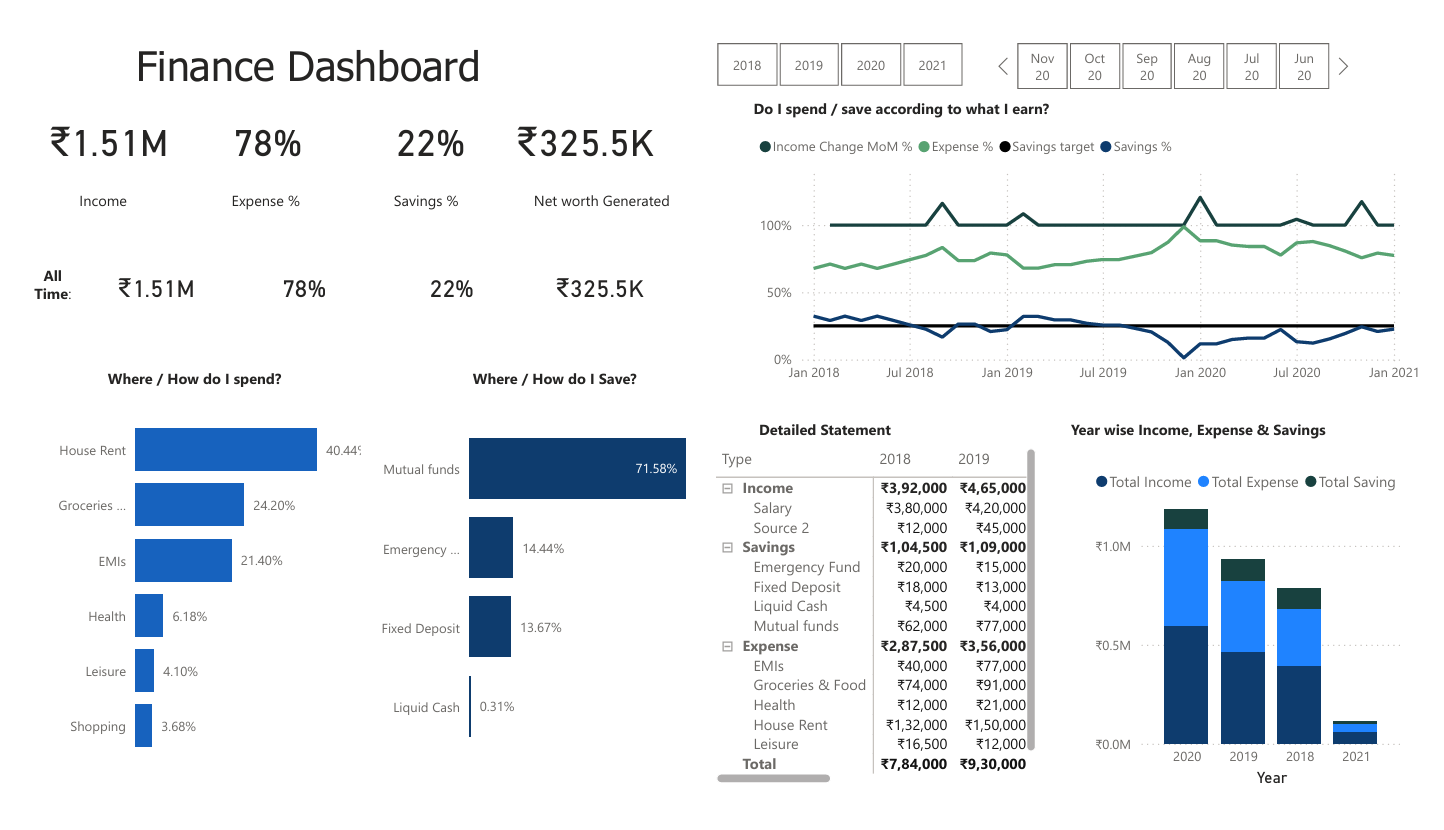

Layout of this report page (visuals, bound fields, positions):
{"tool":"powerbi","page":{"name":"Fin Dashboard","canvas":[1280,720],"ordinal":0},"visuals":[{"type":"card","fields":{"Values":["Key Measures.Total Income"]},"box":[8.2,44.5,137.6,126.7],"z":0},{"type":"card","fields":{"Values":["Key Measures.Expense %"]},"box":[153.7,44.5,137.6,126.7],"z":1000},{"type":"card","fields":{"Values":["Key Measures.Savings %"]},"box":[302.2,44.5,137.6,126.7],"z":2000},{"type":"card","fields":{"Values":["Key Measures.Total Saving"]},"box":[443.7,44.5,137.6,126.7],"z":3000},{"type":"textbox","box":[12.2,149.4,119.8,29.7],"z":4000},{"type":"textbox","box":[160.6,149.4,119.8,29.7],"z":5000},{"type":"textbox","box":[307.1,149.4,119.8,29.7],"z":6000},{"type":"textbox","box":[448.9,149.4,157.4,41.6],"z":7000},{"type":"slicer","fields":{"Values":["FinData.Year"]},"box":[607.2,11.6,273.9,53.6],"z":8000},{"type":"slicer","fields":{"Values":["FinData.Date"]},"box":[881.2,11.6,334.8,53.6],"z":9000},{"type":"card","fields":{"Values":["Key Measures.Total Saving"]},"box":[456.6,179.2,137.6,126.7],"z":10000},{"type":"card","fields":{"Values":["Key Measures.Savings %"]},"box":[321.7,179.2,137.6,126.7],"z":11000},{"type":"card","fields":{"Values":["Key Measures.Expense %"]},"box":[186.7,179.2,137.6,126.7],"z":12000},{"type":"card","fields":{"Values":["Key Measures.Total Income"]},"box":[51.8,179.1,137.6,126.7],"z":13000},{"type":"textbox","box":[0.6,216.7,50.5,52.5],"z":14000},{"type":"clusteredBarChart","fields":{"Category":["FinData.Component"],"Y":["Key Measures.Total Expense"]},"box":[10.9,338.5,313.7,350.4],"z":15000},{"type":"textbox","box":[0,311.4,311.4,26.8],"z":16000},{"type":"clusteredBarChart","fields":{"Category":["FinData.Component"],"Y":["Key Measures.Total Saving"]},"box":[307.8,338.5,344.4,350.4],"z":17000},{"type":"textbox","box":[328.6,311.4,311.4,26.8],"z":18000},{"type":"lineChart","fields":{"Y":["Key Measures.Income Change MoM %","Key Measures.Expense %","Key Measures.Savings target","Key Measures.Savings %"],"Category":["FinData.Date"]},"box":[665.9,94.3,614.1,243.9],"z":19000},{"type":"textbox","box":[660.9,65.2,311.6,29],"z":20000},{"type":"pivotTable","fields":{"Values":["Key Measures.Values"],"Columns":["FinData.Year","FinData.Date"],"Rows":["Type.Type","FinData.Component"]},"box":[626.9,384,302.5,315.6],"z":21000},{"type":"textbox","box":[665.9,358.1,312.2,26.8],"z":22000},{"type":"textbox","box":[97.5,11.6,427.6,65.5],"z":23000},{"type":"columnChart","fields":{"Category":["FinData.Year"],"Y":["Key Measures.Total Income","Key Measures.Total Expense","Key Measures.Total Saving"]},"box":[973.1,398.5,289.5,304],"z":24000},{"type":"textbox","box":[951.3,357.8,311.3,40.7],"z":25000}]}

Visuals, with their boxes in screenshot pixels (x1, y1, x2, y2), scaled from the page's 1280x720 canvas onto the 1444x830 screenshot:
card - Key Measures.Total Income: BBox(9, 51, 164, 197)
card - Key Measures.Expense %: BBox(173, 51, 329, 197)
card - Key Measures.Savings %: BBox(341, 51, 496, 197)
card - Key Measures.Total Saving: BBox(501, 51, 656, 197)
textbox: BBox(14, 172, 149, 206)
textbox: BBox(181, 172, 316, 206)
textbox: BBox(346, 172, 482, 206)
textbox: BBox(506, 172, 684, 220)
slicer - FinData.Year: BBox(685, 13, 994, 75)
slicer - FinData.Date: BBox(994, 13, 1372, 75)
card - Key Measures.Total Saving: BBox(515, 207, 670, 353)
card - Key Measures.Savings %: BBox(363, 207, 518, 353)
card - Key Measures.Expense %: BBox(211, 207, 366, 353)
card - Key Measures.Total Income: BBox(58, 206, 214, 353)
textbox: BBox(1, 250, 58, 310)
clusteredBarChart - FinData.Component x Key Measures.Total Expense: BBox(12, 390, 366, 794)
textbox: BBox(0, 359, 351, 390)
clusteredBarChart - FinData.Component x Key Measures.Total Saving: BBox(347, 390, 736, 794)
textbox: BBox(371, 359, 722, 390)
lineChart - Key Measures.Income Change MoM % x Key Measures.Expense %: BBox(751, 109, 1443, 390)
textbox: BBox(746, 75, 1097, 109)
pivotTable - Key Measures.Values x FinData.Year: BBox(707, 443, 1048, 806)
textbox: BBox(751, 413, 1103, 444)
textbox: BBox(110, 13, 592, 89)
columnChart - FinData.Year x Key Measures.Total Income: BBox(1098, 459, 1424, 810)
textbox: BBox(1073, 412, 1424, 459)
